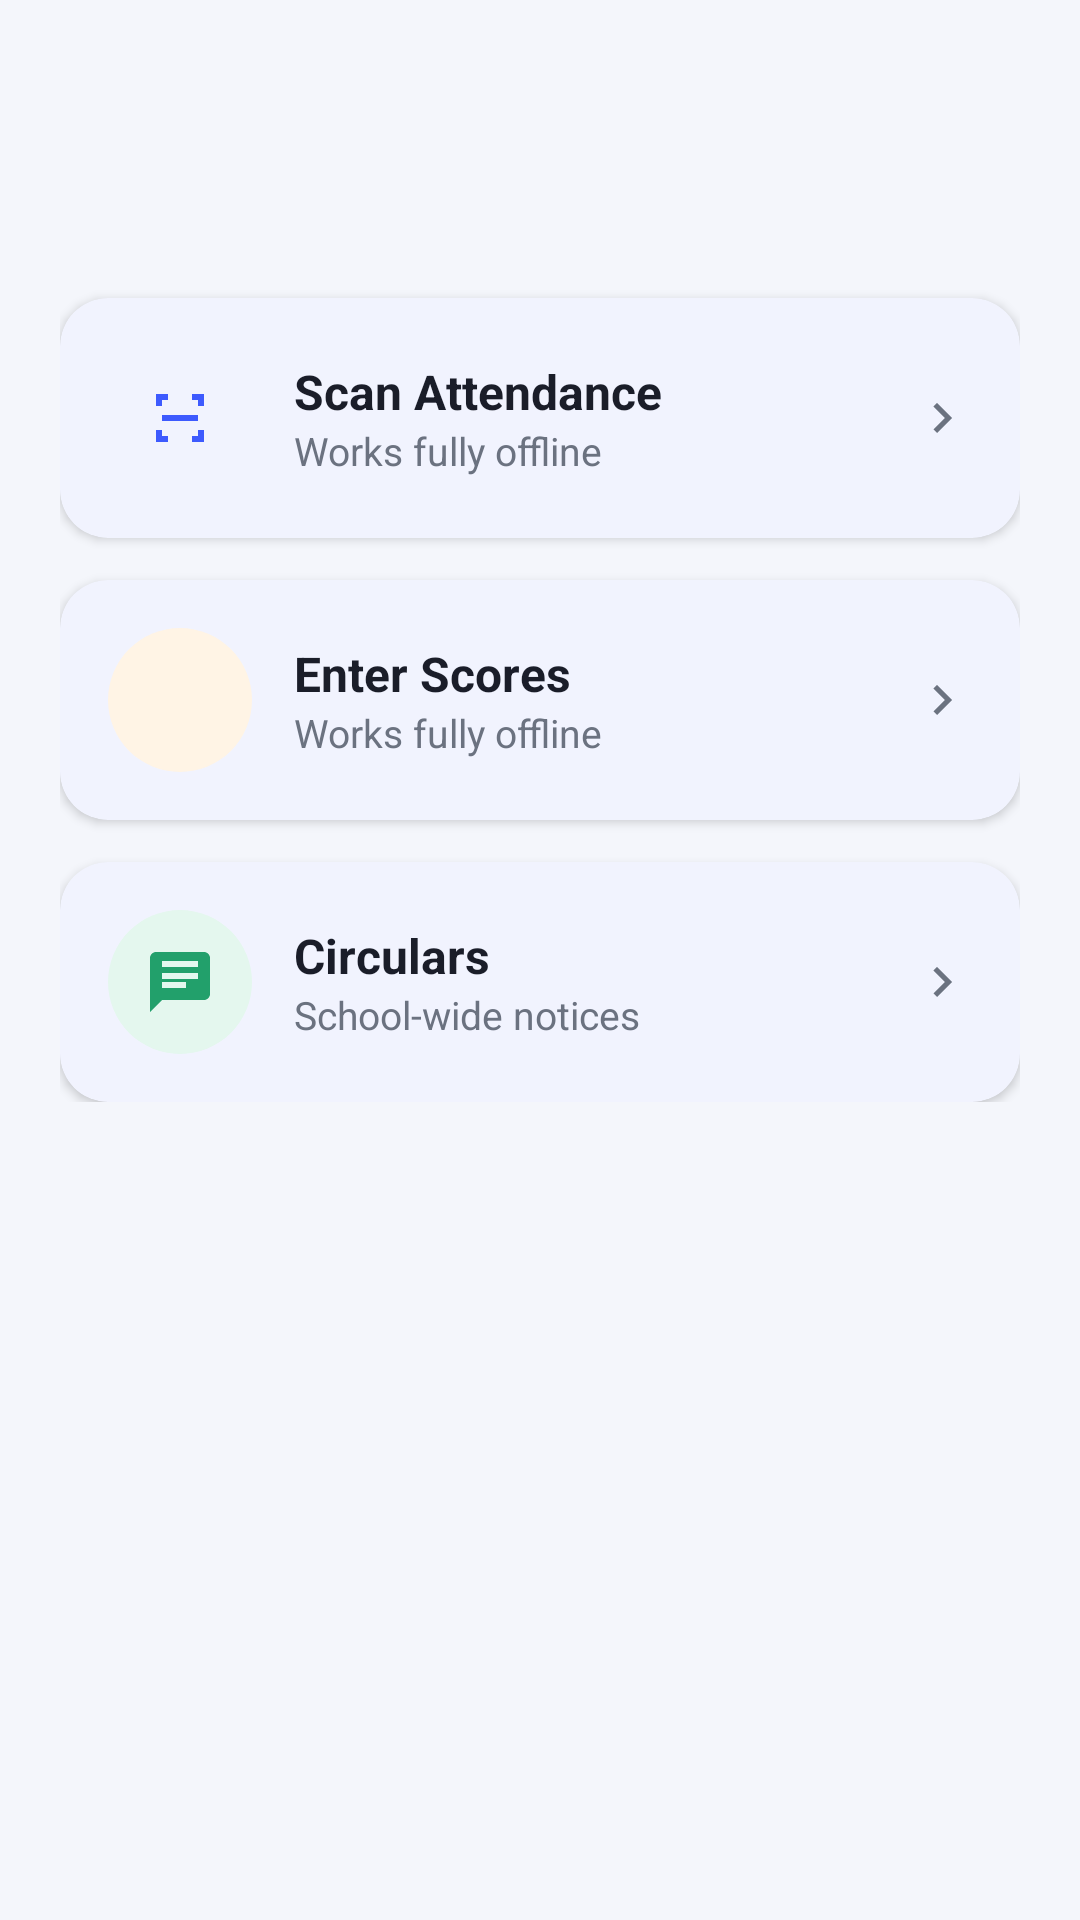

Where to tap for icons on this 1080 x 1920 app screen, as [x,y]:
chevron right: [942,418], [942,700], [942,982]
